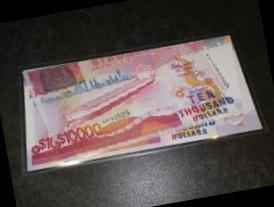10000SingaporeDollar: (20, 36, 248, 168)
